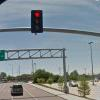Traffic light: (27, 0, 55, 38)
